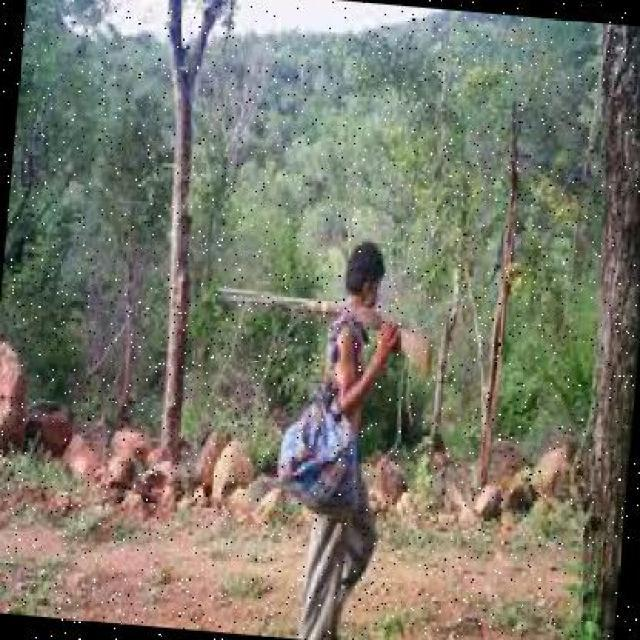Hunter: (266, 226, 452, 626)
Rifle: (220, 286, 446, 371)
